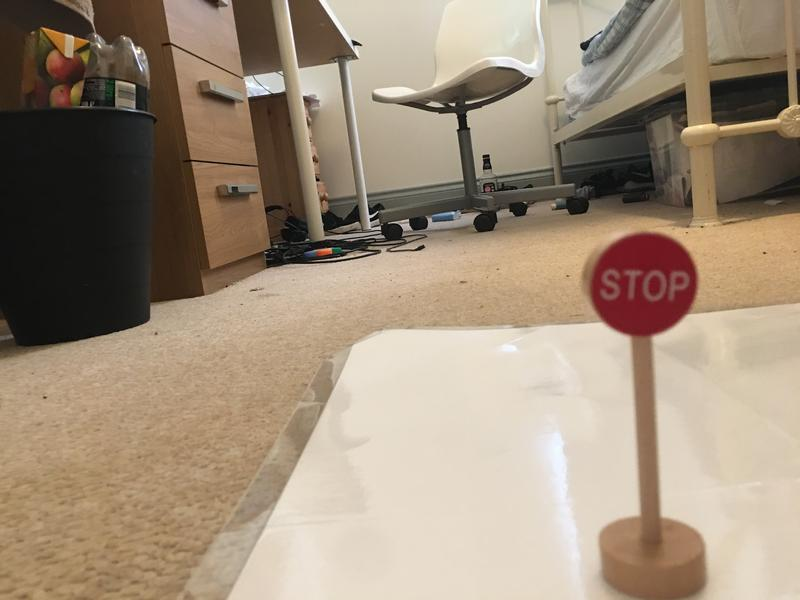Traffic_Sign_Stop: (587, 232, 697, 338)
